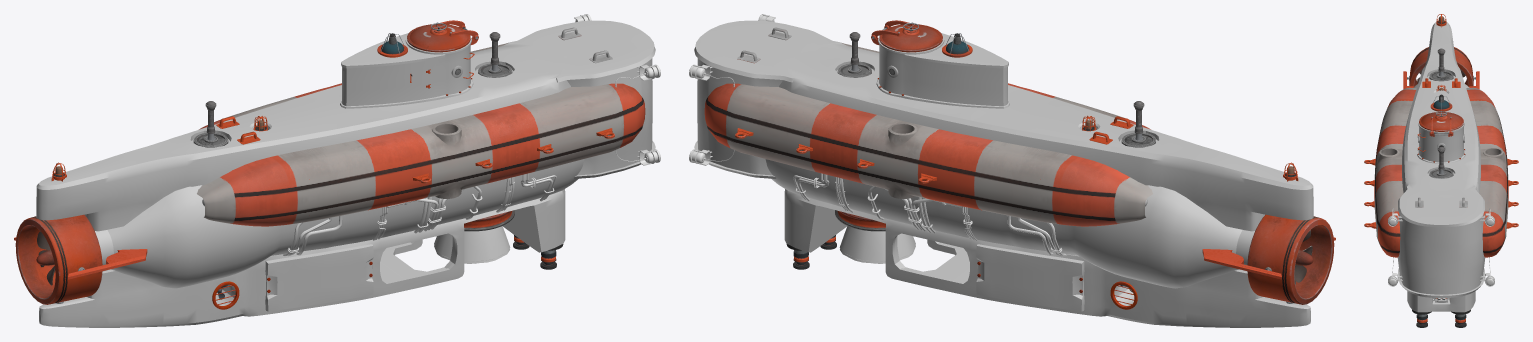
The model's file is submarine.fbx.
3 views of the same model, side by side, from view 1: azimuth 30°, elevation 25°; view 2: azimuth 150°, elevation 25°; view 3: azimuth 270°, elevation 25° (orthographic). The views are drawn at different scales.
Visible parts, largest first — view 1: MAIN TOPO.002, MAIN TOPO.001, MAIN TOPO, MAIN TOPO.005, Cylinder.272, MAIN TOPO.004, Cylinder.002, Cylinder.004, Cylinder.001, Cylinder.003; view 2: MAIN TOPO.002, MAIN TOPO.001, MAIN TOPO, MAIN TOPO.005, Cylinder.272, MAIN TOPO.004, Cylinder.002, Cylinder.004, Cylinder.001, Cylinder.003; view 3: MAIN TOPO.002, MAIN TOPO.001, Cylinder.272, MAIN TOPO.005, MAIN TOPO, Cylinder.002, Cylinder.003.
Part boxes in pixels (left/top/right/bottom): MAIN TOPO.002: left=36, top=20, right=655, bottom=231; MAIN TOPO.001: left=197, top=43, right=645, bottom=226; MAIN TOPO: left=14, top=159, right=584, bottom=304; MAIN TOPO.005: left=39, top=189, right=565, bottom=327; Cylinder.272: left=51, top=20, right=612, bottom=309; MAIN TOPO.004: left=265, top=244, right=373, bottom=311; Cylinder.002: left=283, top=14, right=660, bottom=256; Cylinder.004: left=434, top=226, right=510, bottom=263; Cylinder.001: left=36, top=231, right=55, bottom=285; Cylinder.003: left=413, top=128, right=614, bottom=183; MAIN TOPO.002: left=694, top=20, right=1313, bottom=231; MAIN TOPO.001: left=704, top=43, right=1152, bottom=226; MAIN TOPO: left=765, top=159, right=1335, bottom=304; MAIN TOPO.005: left=784, top=189, right=1310, bottom=327; Cylinder.272: left=737, top=20, right=1298, bottom=309; MAIN TOPO.004: left=976, top=244, right=1084, bottom=311; Cylinder.002: left=689, top=14, right=1066, bottom=256; Cylinder.004: left=839, top=226, right=915, bottom=263; Cylinder.001: left=1294, top=230, right=1313, bottom=284; Cylinder.003: left=735, top=128, right=936, bottom=183; MAIN TOPO.002: left=1397, top=19, right=1485, bottom=298; MAIN TOPO.001: left=1374, top=87, right=1508, bottom=257; Cylinder.272: left=1407, top=14, right=1475, bottom=327; MAIN TOPO.005: left=1407, top=291, right=1475, bottom=312; MAIN TOPO: left=1403, top=47, right=1479, bottom=89; Cylinder.002: left=1388, top=208, right=1494, bottom=286; Cylinder.003: left=1364, top=159, right=1518, bottom=228.
Bounding box in the file's own units: 584 × 236 × 182.
